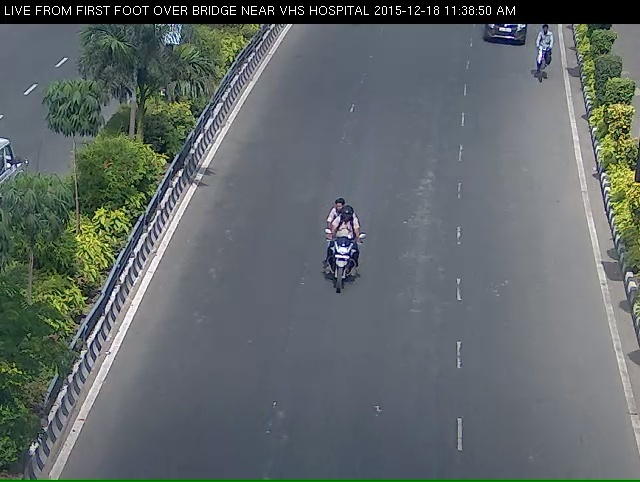Person: (316, 215, 362, 323)
